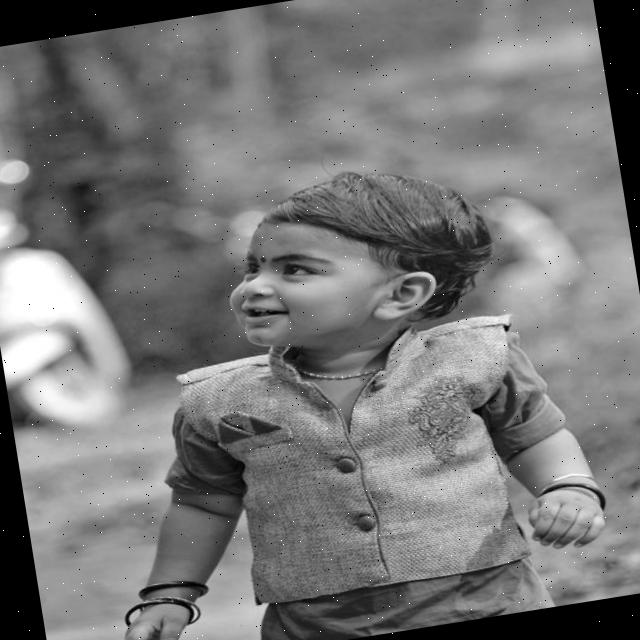Happiness: (213, 201, 367, 362)
